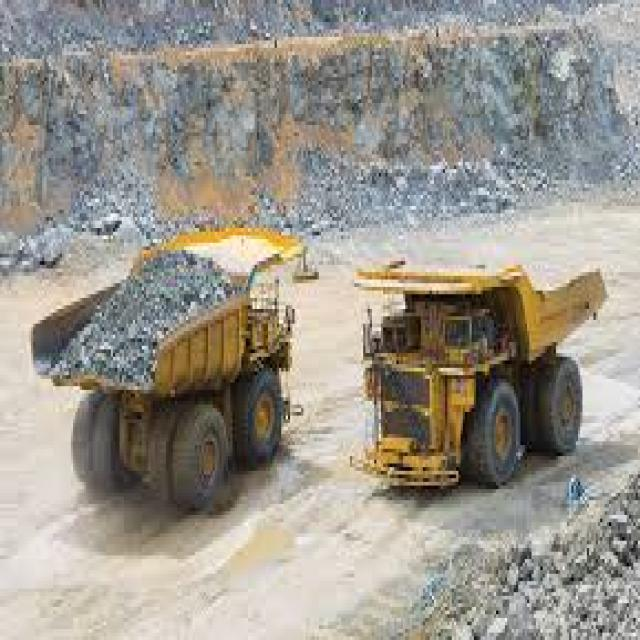dump_truck: (22, 202, 315, 534), (343, 217, 611, 511)
